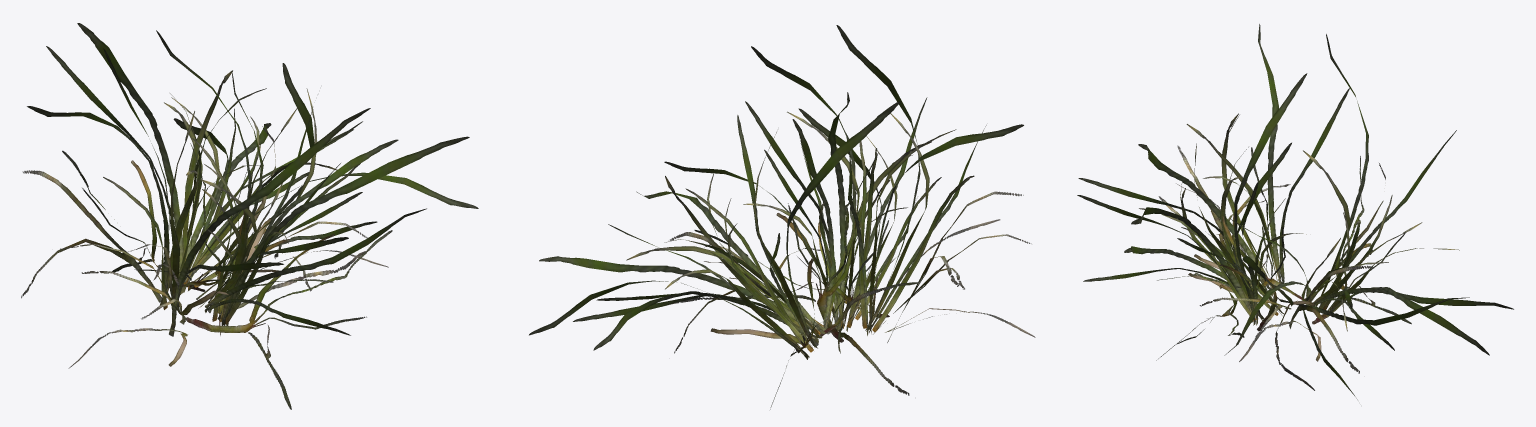
File: grass_medium_01_mid_c.gltf
The picture shows the model from 3 angles, left to right: view 1: azimuth 30°, elevation 25°; view 2: azimuth 150°, elevation 25°; view 3: azimuth 270°, elevation 25°; orthographic projection. The views are drawn at different scales.
Parts seen in each view (by area): view 1: grass_medium_01_mid_c_LOD0; view 2: grass_medium_01_mid_c_LOD0; view 3: grass_medium_01_mid_c_LOD0.
Part boxes in pixels (bbox=[...]): grass_medium_01_mid_c_LOD0: bbox=[21, 23, 478, 409]; grass_medium_01_mid_c_LOD0: bbox=[529, 25, 1035, 409]; grass_medium_01_mid_c_LOD0: bbox=[1077, 24, 1513, 399].
Bounding box in the file's own units: 0.1923 × 0.1446 × 0.2029.
Materials: 1 (1 with a texture image).
